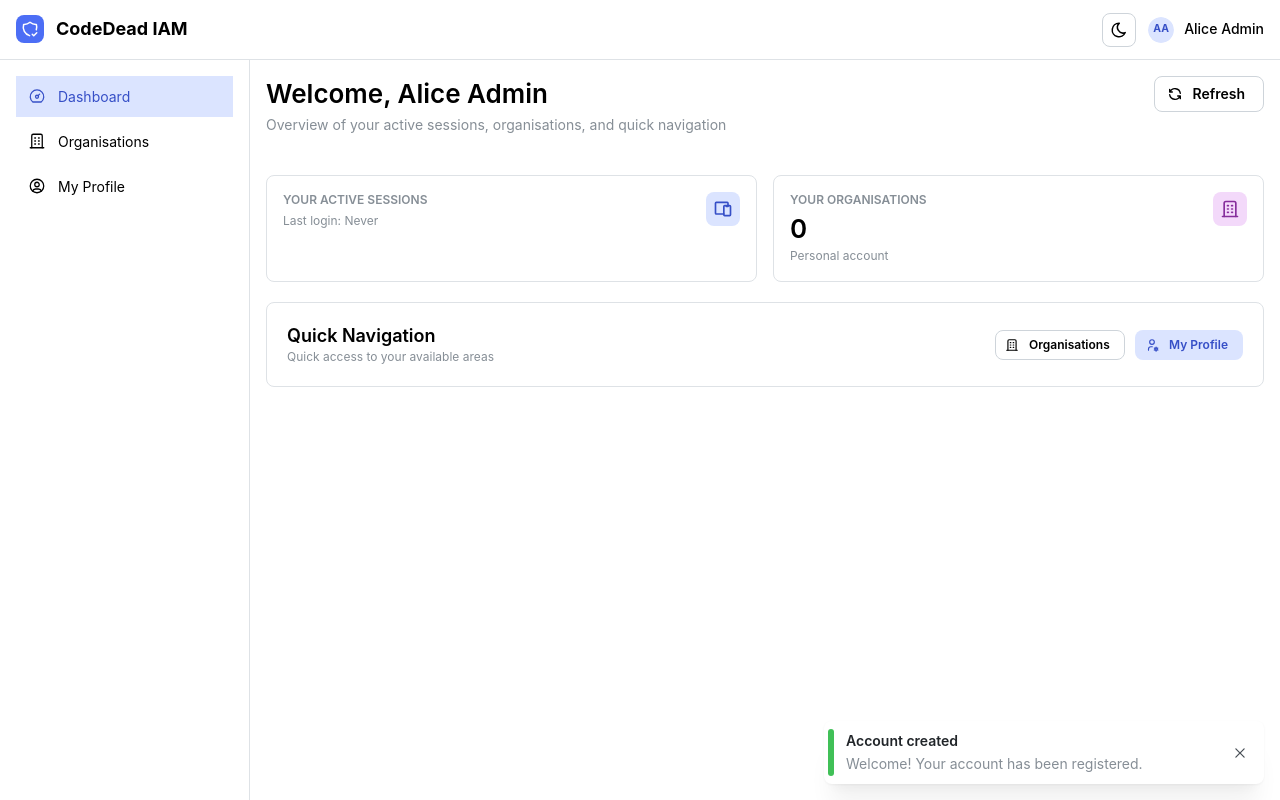
Test case: Authentication, Registration, Logout & Route Protection › logs out user and clears session
Click the text "Alice Admin".
click(1224, 29)  # box [1184,19,1264,40]
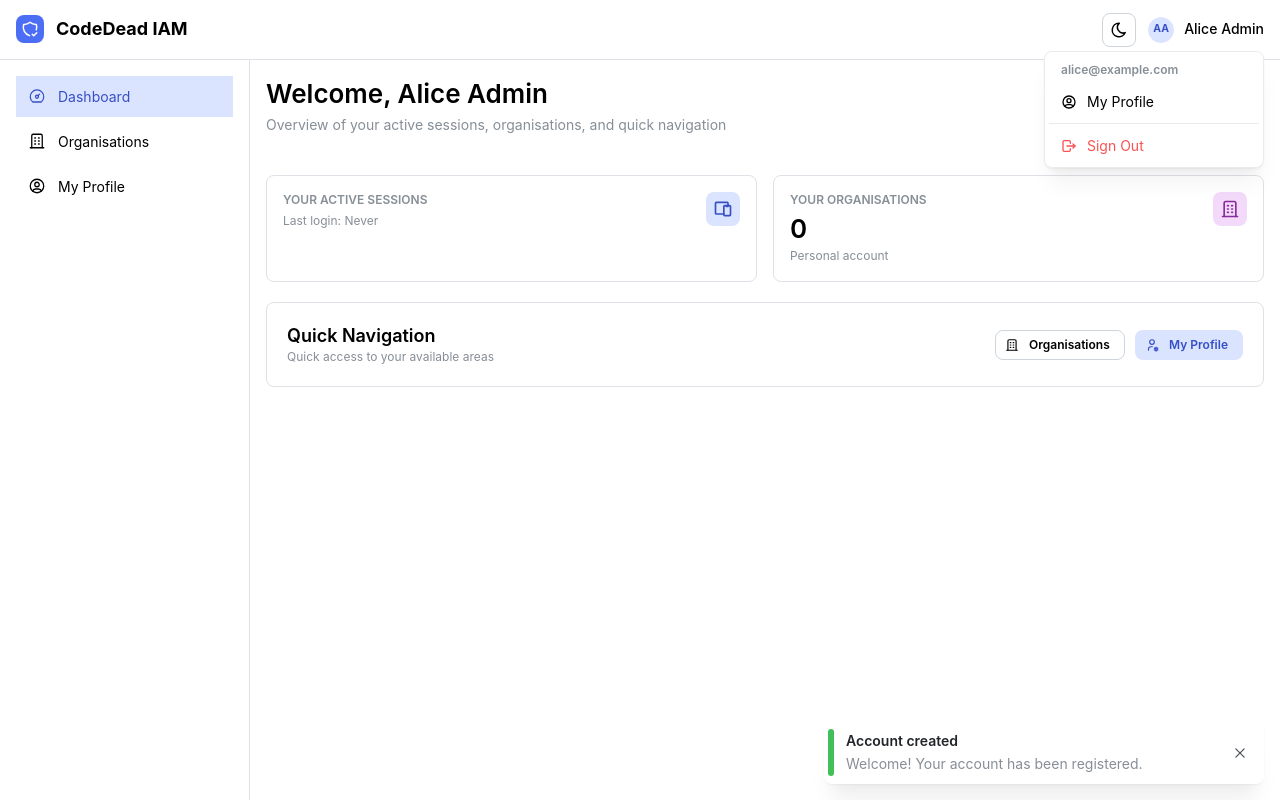
Click the menu item "Sign Out".
click(1154, 146)  # box [1049,128,1259,163]
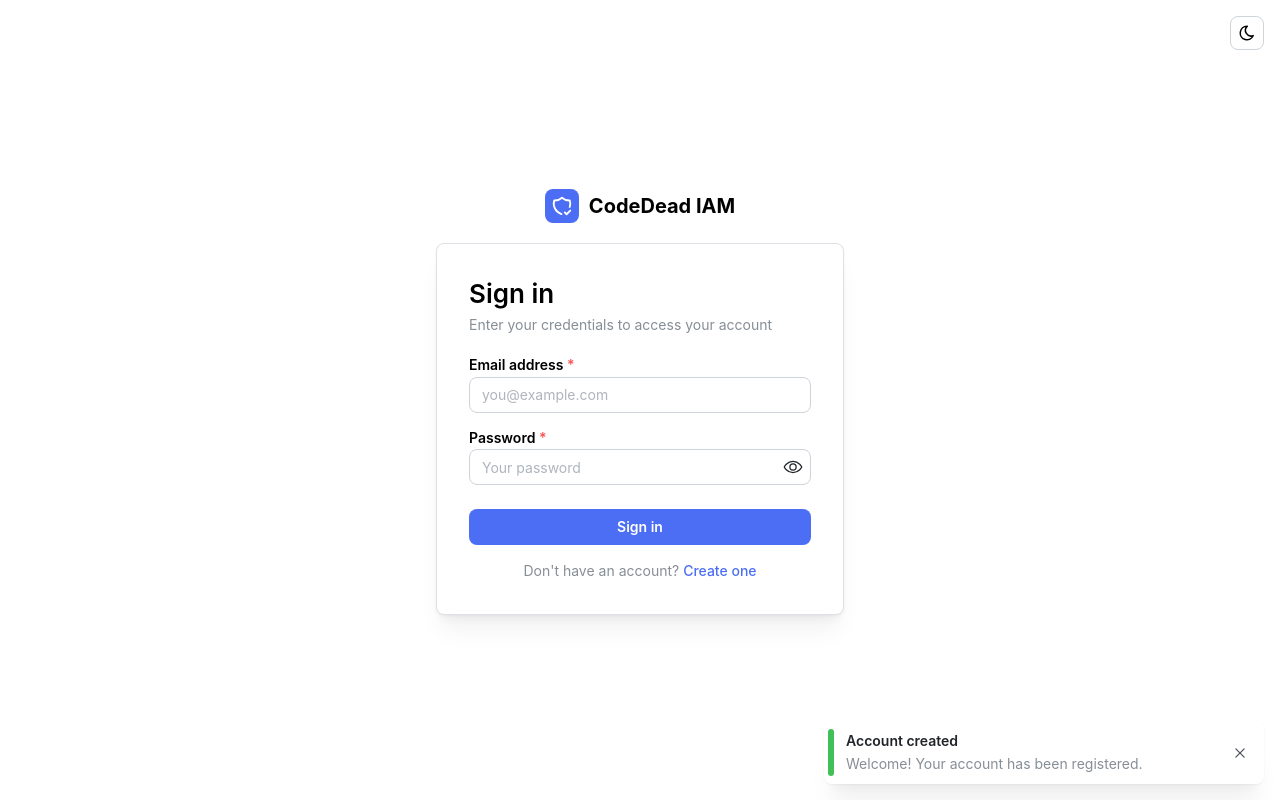
Now the heading "Sign in" is shown, box [469,278,554,309]
